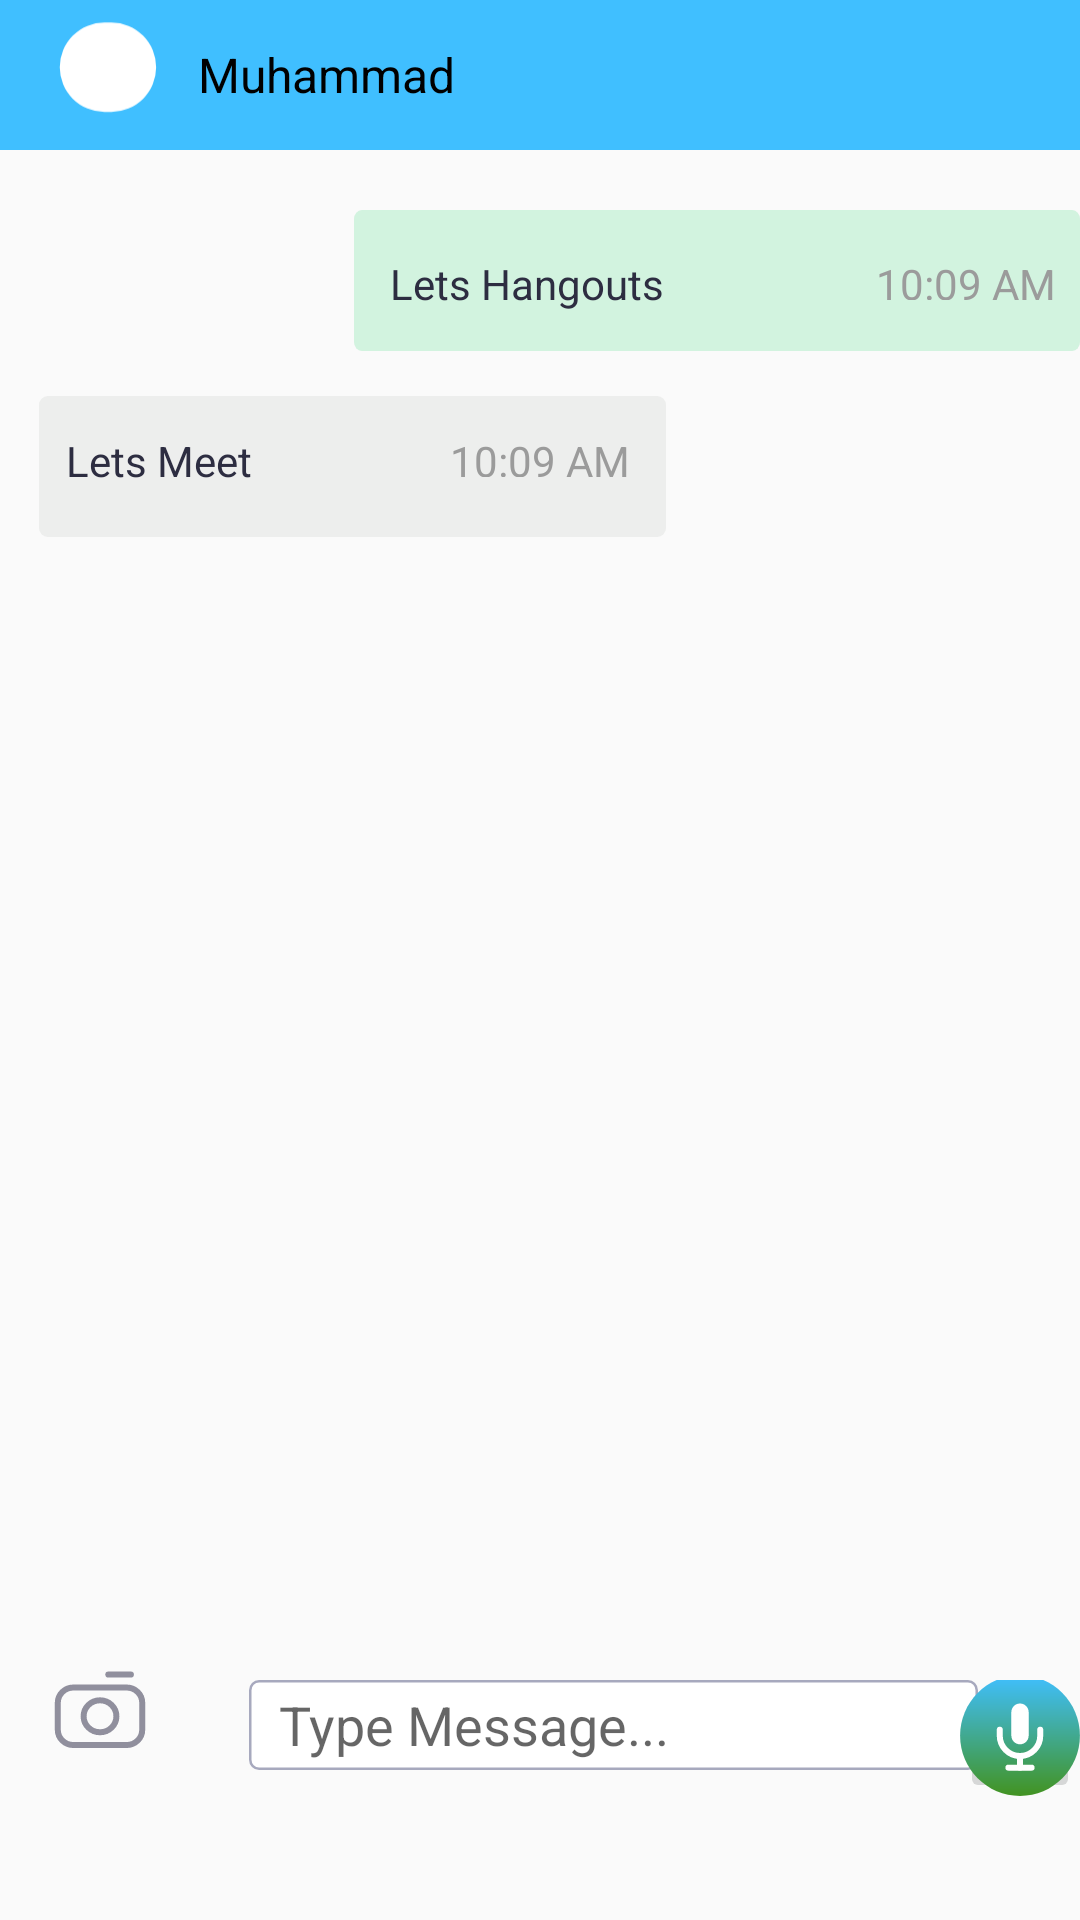

Screen size 1080×1920. Icon name, then its center in pixels as (x=x, y=y):
kamerachat: (x=100, y=1709)
record: (x=1020, y=1738)
